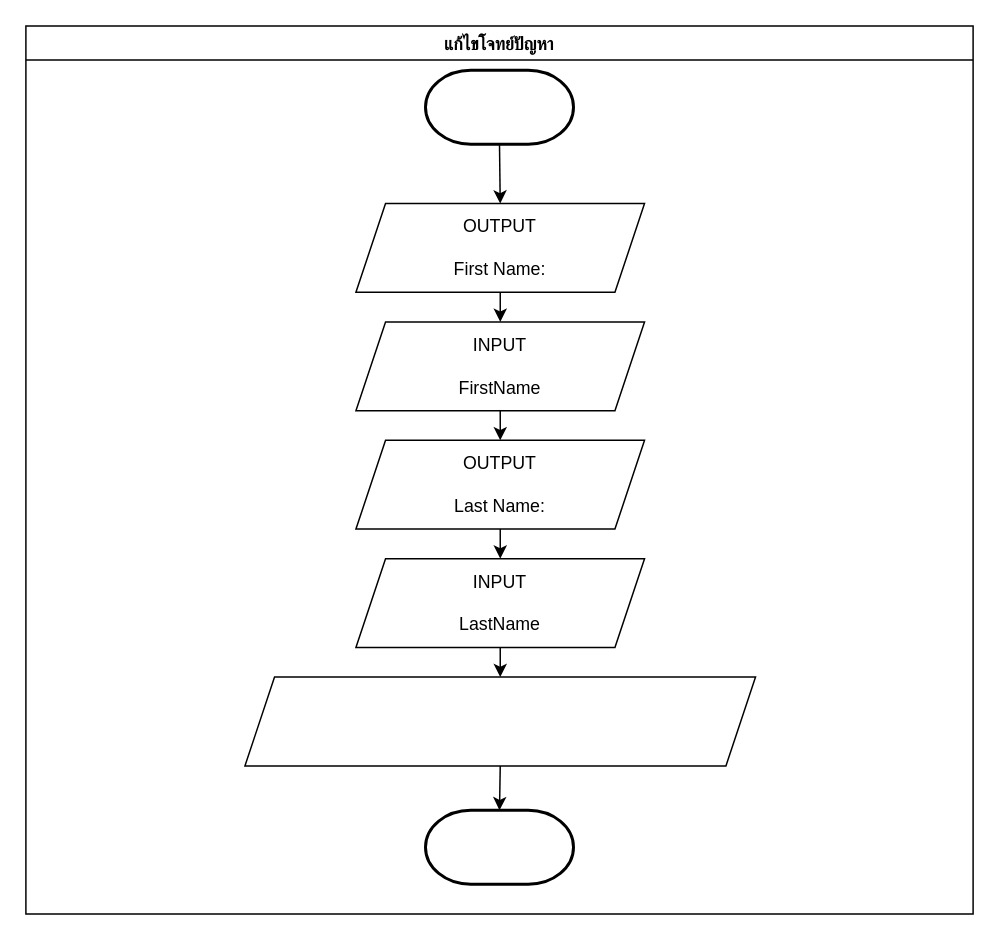
This 999x940 diagram has some shape labels left out. Each missing label, with the centre of its shape:
END: pixel 498 846
OUTPUT FirstName LastName TC, RMUTL, Chiang Mai, Thailand: pixel 499 721
START: pixel 498 106
